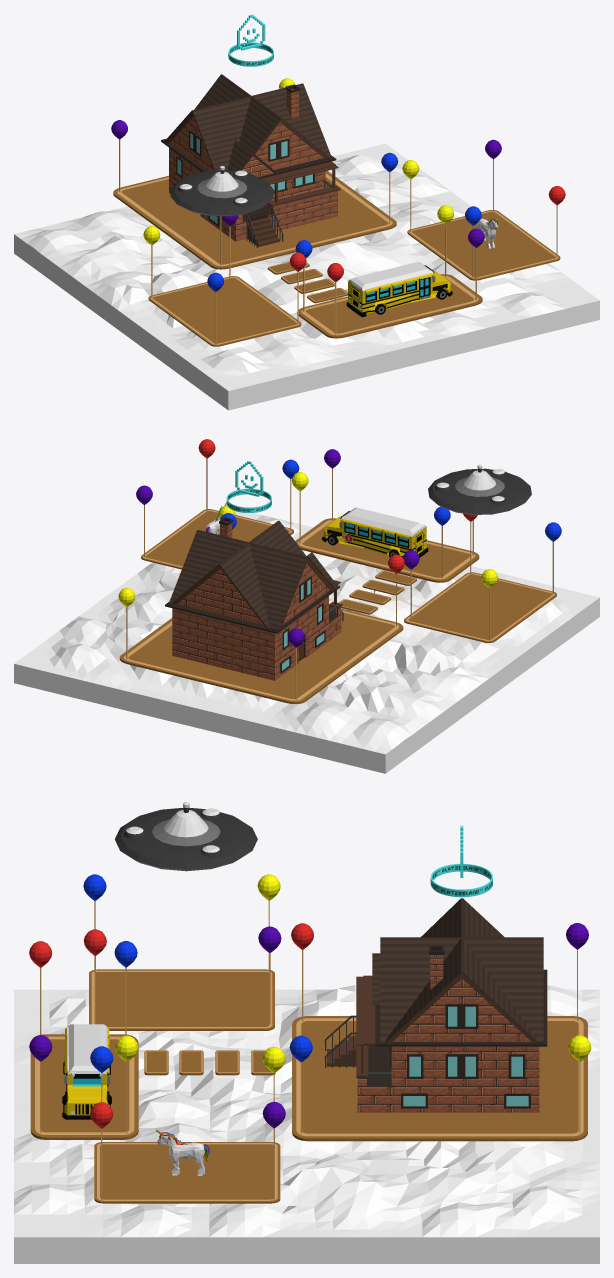
3 views of the same model, one above another, from view 1: azimuth 30°, elevation 25°; view 2: azimuth 150°, elevation 25°; view 3: azimuth 270°, elevation 25° (orthographic). The views are drawn at different scales.
Parts seen in each view (by area): view 1: Cube.013, Cube.469, OBJRANDOM_UFO, VEHICLES_SCHOOL_BUS, TYPE_PREMIUM; view 2: Cube.013, Cube.469, OBJRANDOM_UFO, VEHICLES_SCHOOL_BUS, TYPE_PREMIUM; view 3: Cube.013, Cube.469, OBJRANDOM_UFO, VEHICLES_SCHOOL_BUS, TYPE_PREMIUM, ANIMAL_UNICORNIO.
Part boxes in pixels (left/top/right/bottom): Cube.013: left=14, top=78, right=599, bottom=410; Cube.469: left=161, top=74, right=340, bottom=247; OBJRANDOM_UFO: left=170, top=166, right=274, bottom=216; VEHICLES_SCHOOL_BUS: left=346, top=262, right=452, bottom=317; TYPE_PREMIUM: left=228, top=14, right=273, bottom=66; Cube.013: left=14, top=439, right=599, bottom=773; Cube.469: left=165, top=517, right=343, bottom=680; OBJRANDOM_UFO: left=428, top=464, right=531, bottom=514; VEHICLES_SCHOOL_BUS: left=322, top=507, right=428, bottom=557; TYPE_PREMIUM: left=226, top=461, right=271, bottom=512; Cube.013: left=14, top=874, right=599, bottom=1263; Cube.469: left=324, top=898, right=547, bottom=1112; OBJRANDOM_UFO: left=115, top=802, right=257, bottom=871; VEHICLES_SCHOOL_BUS: left=62, top=1024, right=111, bottom=1119; TYPE_PREMIUM: left=430, top=825, right=492, bottom=897; ANIMAL_UNICORNIO: left=156, top=1129, right=209, bottom=1175.
Bounding box in the file's own units: 4000 × 2447 × 4000.
42 materials, 3 textured.
